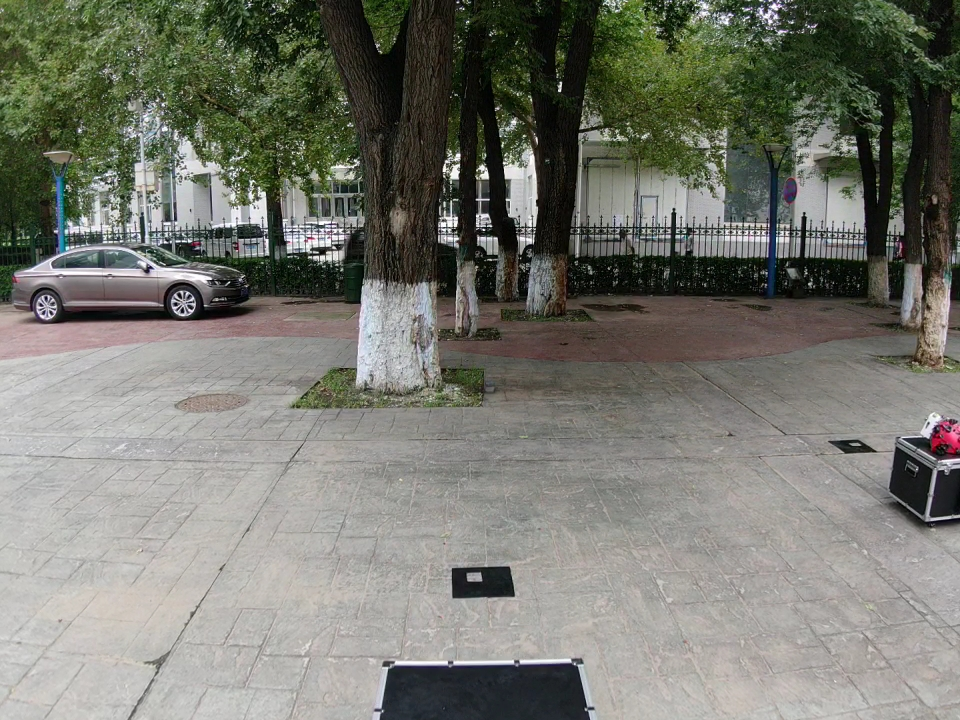box: (372, 659, 597, 720), (891, 436, 960, 521)
helmet: (931, 419, 960, 457)
qrcode: (452, 567, 515, 598), (829, 440, 878, 453)
